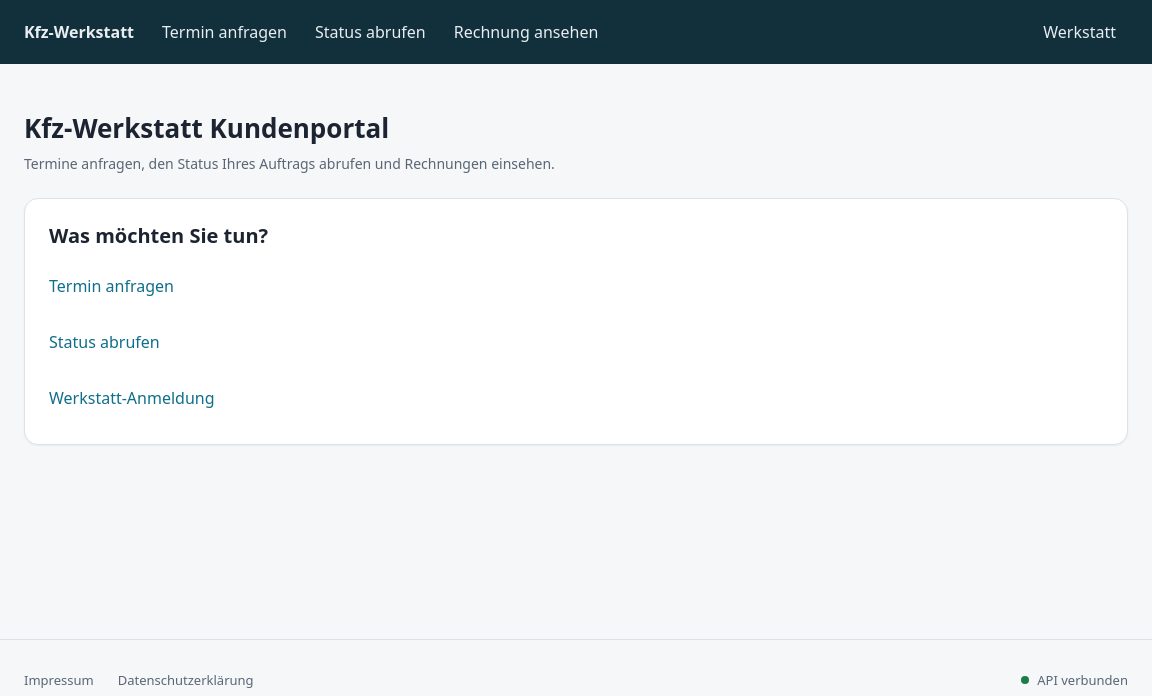
Test case: legal pages › navigates to the Datenschutzerklärung from the footer link
The width and height of the screenshot is (1152, 696).
Click the link "Datenschutzerklärung" at [186, 680], box [118,671,254,689]
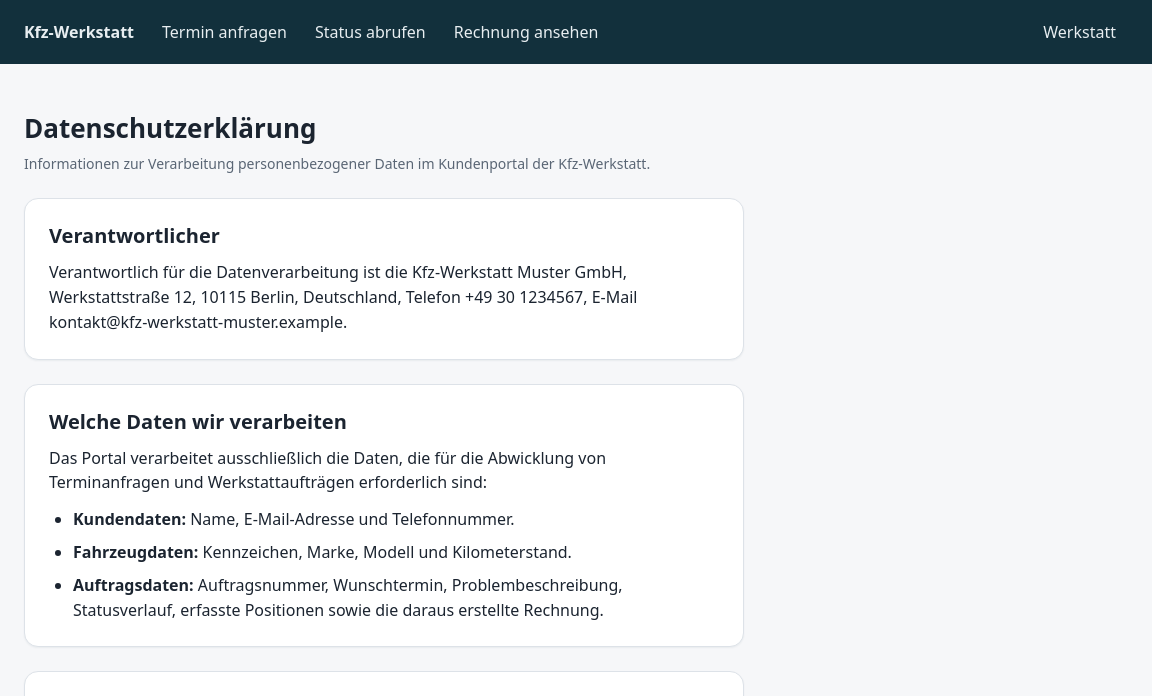
expect the heading "Datenschutzerklärung" is shown: met, box [24,110,316,146]
